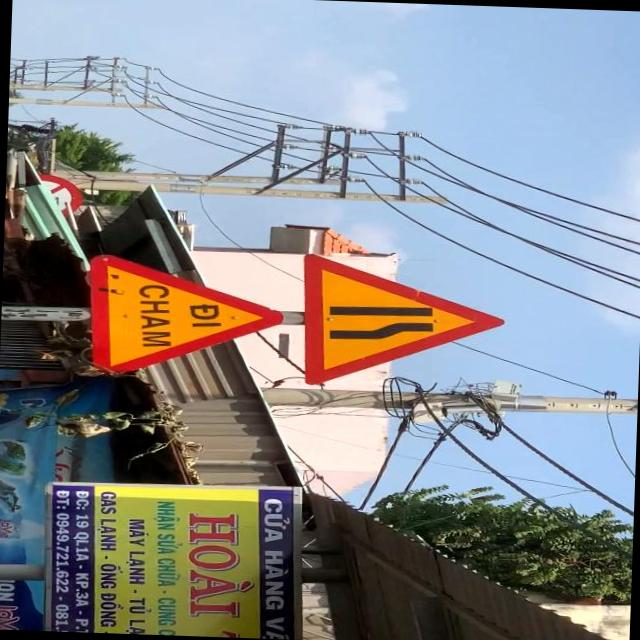W-203c: (298, 251, 508, 390)
W-245a: (86, 252, 284, 381)
